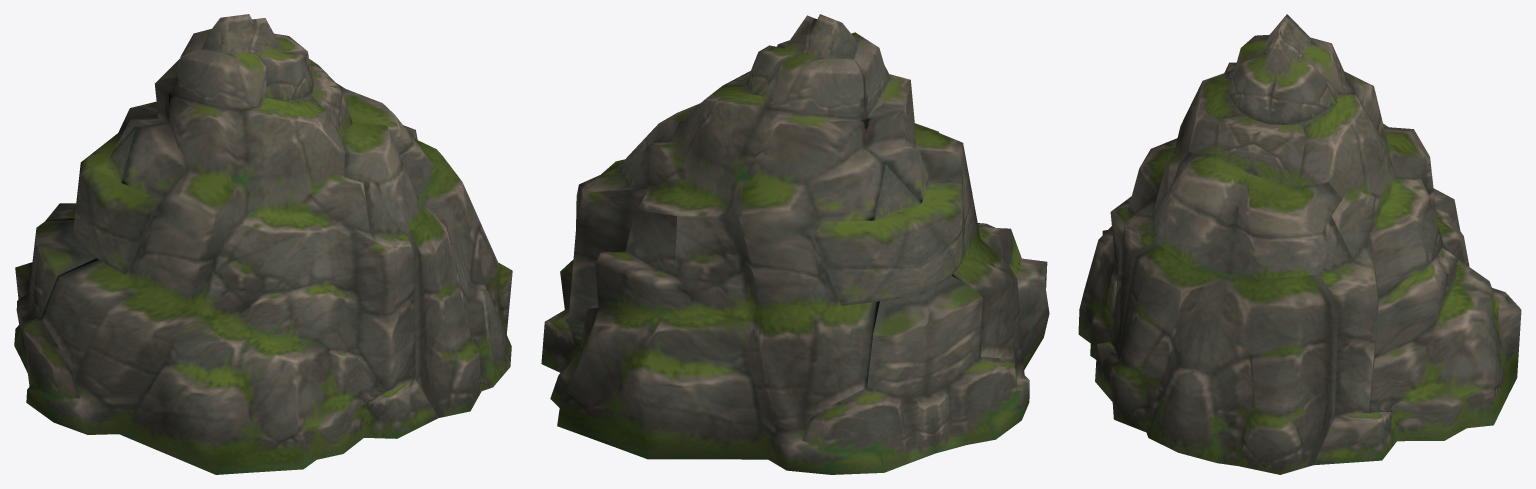
The model's file is shrine_wj004_01.FBX.
3 renders of one model, left to right at view 1: azimuth 30°, elevation 25°; view 2: azimuth 150°, elevation 25°; view 3: azimuth 270°, elevation 25°, orthographic. The views are drawn at different scales.
Parts seen in each view (by area): view 1: shrine_wj004_01; view 2: shrine_wj004_01; view 3: shrine_wj004_01.
Part boxes in pixels (<box>): shrine_wj004_01: <box>14,14,512,474</box>; shrine_wj004_01: <box>541,14,1049,474</box>; shrine_wj004_01: <box>1078,14,1521,474</box>.
Size of the model in its own units: 696 by 533 by 638.
1 material, 1 textured.
